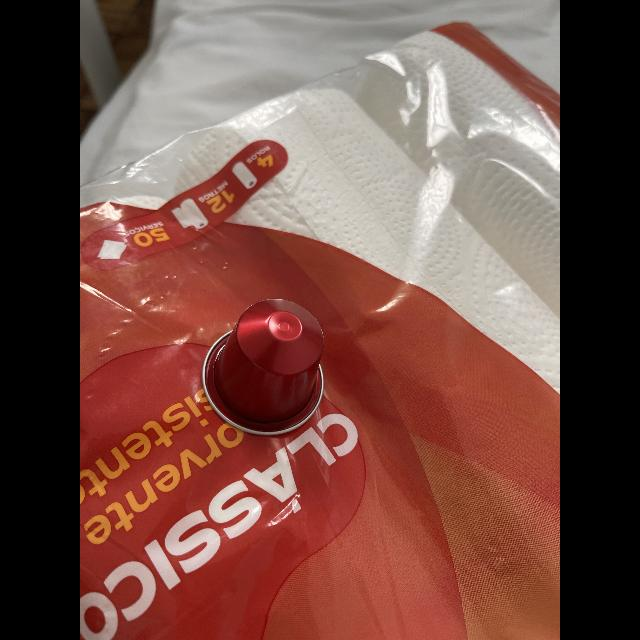intact_capsule: (195, 292, 337, 446)
